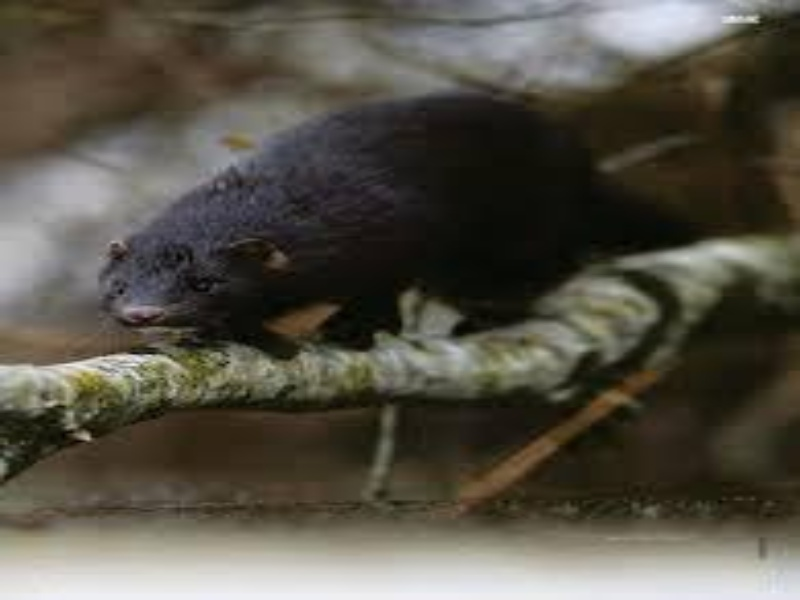minkish: (96, 94, 641, 347)
